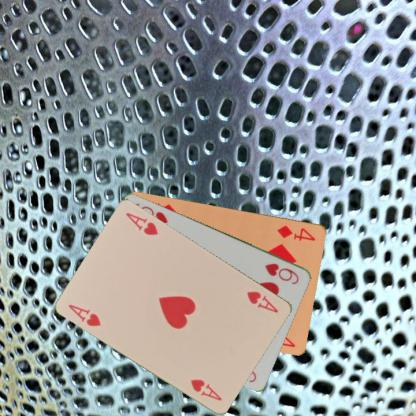4d: (275, 223, 317, 242)
6h: (262, 260, 300, 285)
Ah: (66, 301, 103, 328), (245, 288, 280, 314)
